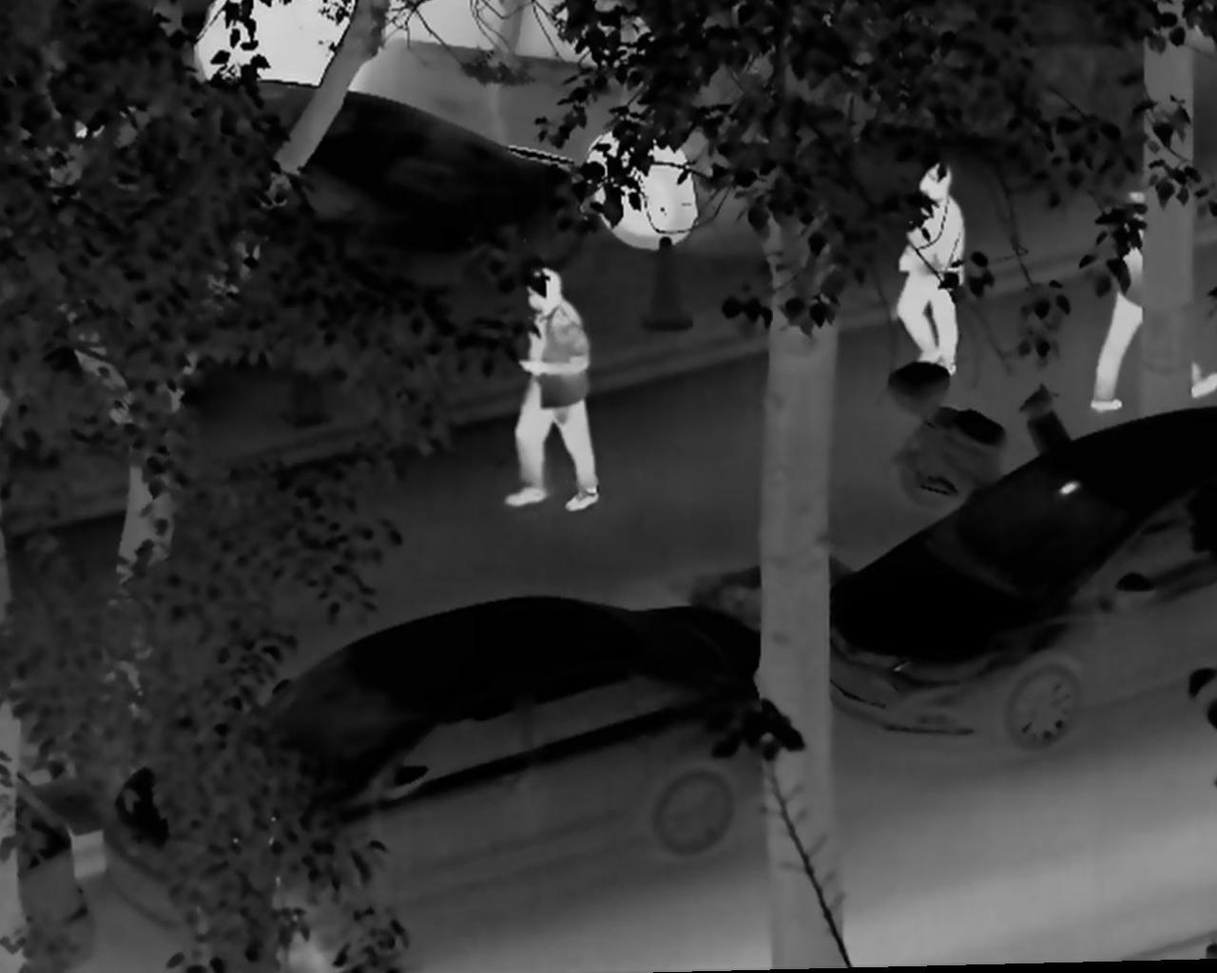person: (1083, 175, 1217, 415), (506, 265, 601, 518), (894, 162, 967, 388)
